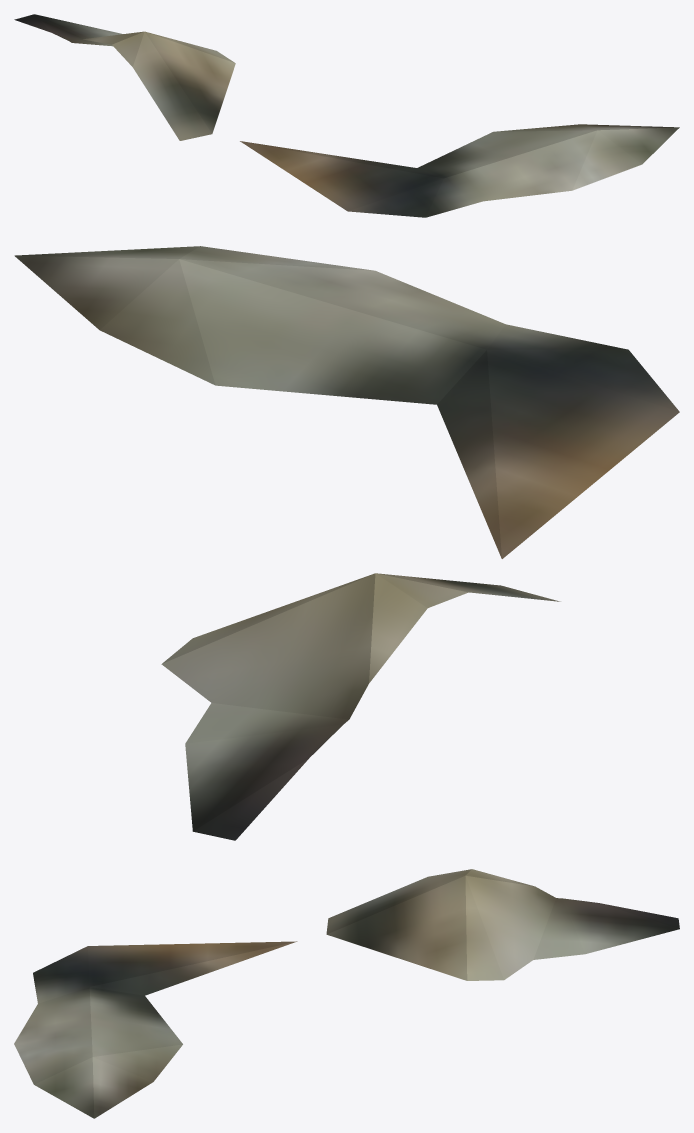
3 renders of one model, top to bottom at view 1: azimuth 30°, elevation 25°; view 2: azimuth 150°, elevation 25°; view 3: azimuth 270°, elevation 25°, orthographic. The views are drawn at different scales.
Size of the model in its own units: 10.04 by 1.35 by 14.09.
1 material, 1 textured.
